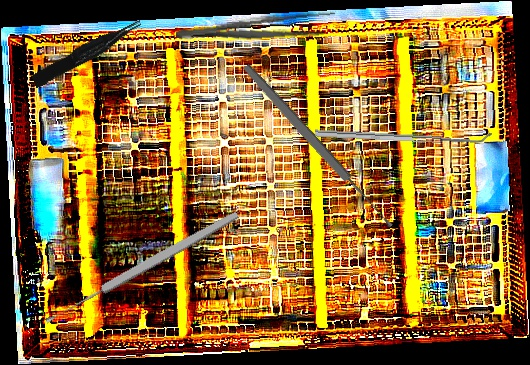Dressing Forceps: (175, 8, 337, 48)
Spatula Surgical: (314, 123, 493, 146)
Surgical Spoon: (240, 61, 396, 232), (42, 208, 241, 327)
Tissue Forceps: (28, 17, 147, 89)
